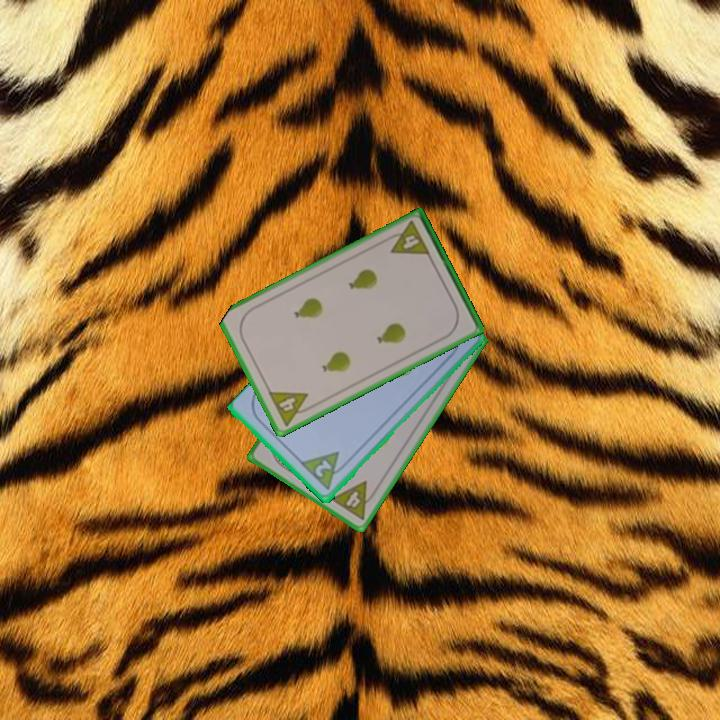2p: (298, 448, 351, 494)
4p: (327, 478, 381, 523), (265, 388, 317, 429), (382, 218, 433, 259)
